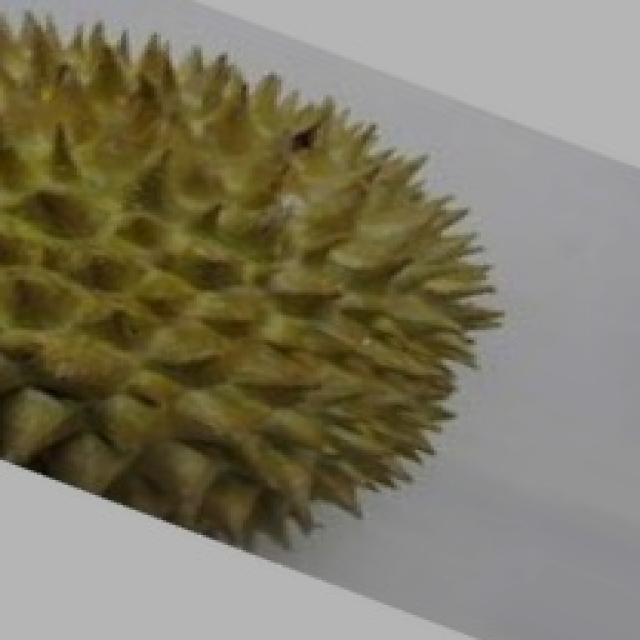fruit: (0, 0, 320, 515)
